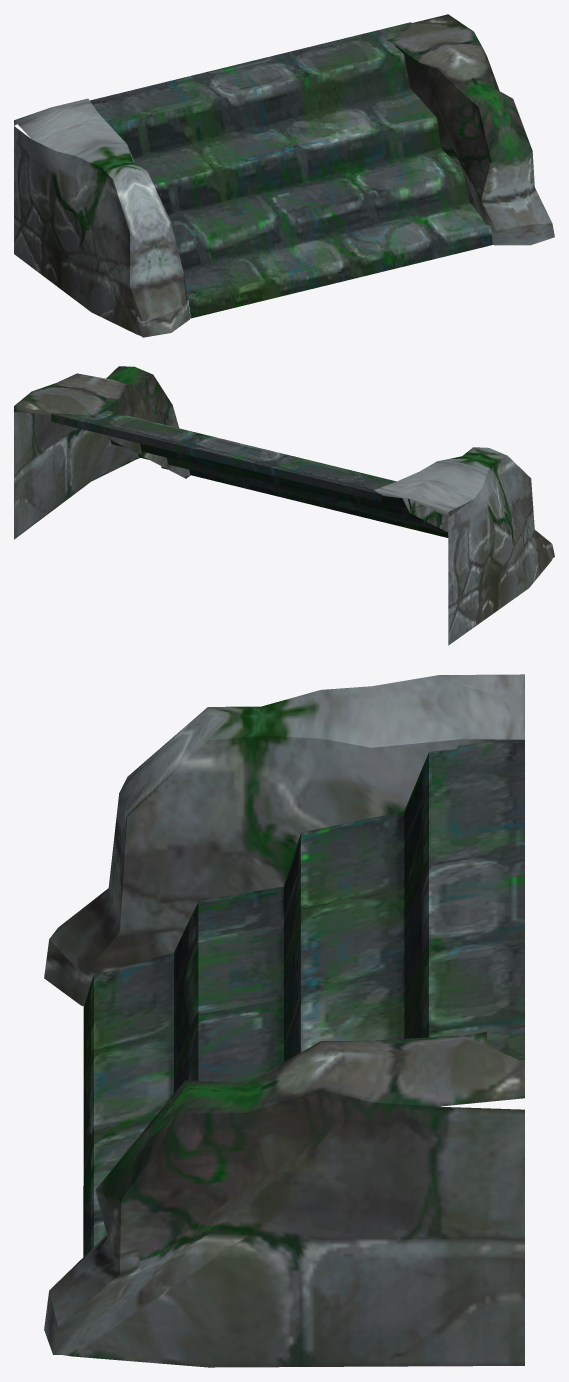
Rendered from stemple_quarter_stair_01.fbx.
3 views of the same model, one above another, from view 1: azimuth 30°, elevation 25°; view 2: azimuth 150°, elevation 25°; view 3: azimuth 270°, elevation 25° (orthographic). The views are drawn at different scales.
Visible parts, largest first — view 1: stemple_quarter_stair_01-0; view 2: stemple_quarter_stair_01-0; view 3: stemple_quarter_stair_01-0.
Part boxes in pixels (<box>): stemple_quarter_stair_01-0: <box>14,14,554,337</box>; stemple_quarter_stair_01-0: <box>14,366,554,645</box>; stemple_quarter_stair_01-0: <box>44,674,524,1367</box>.
Size of the model in its own units: 4.91 by 1.54 by 2.31.
